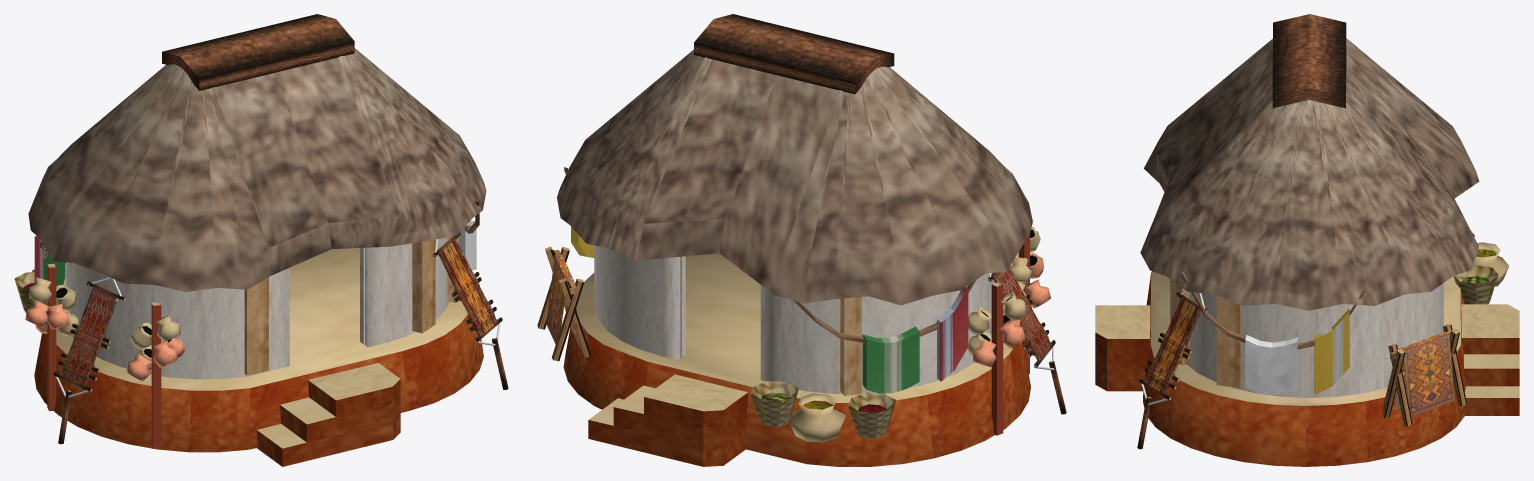
Rendered from house_2.dae.
3 views of the same model, side by side, from view 1: azimuth 30°, elevation 25°; view 2: azimuth 150°, elevation 25°; view 3: azimuth 270°, elevation 25° (orthographic). The views are drawn at different scales.
Parts seen in each view (by area): view 1: house_2; view 2: house_2; view 3: house_2.
Part boxes in pixels (<box>): house_2: <box>14,14,508,466</box>; house_2: <box>537,14,1066,466</box>; house_2: <box>1095,14,1519,466</box>.
Size of the model in its own units: 12.2 by 10.57 by 8.84.
